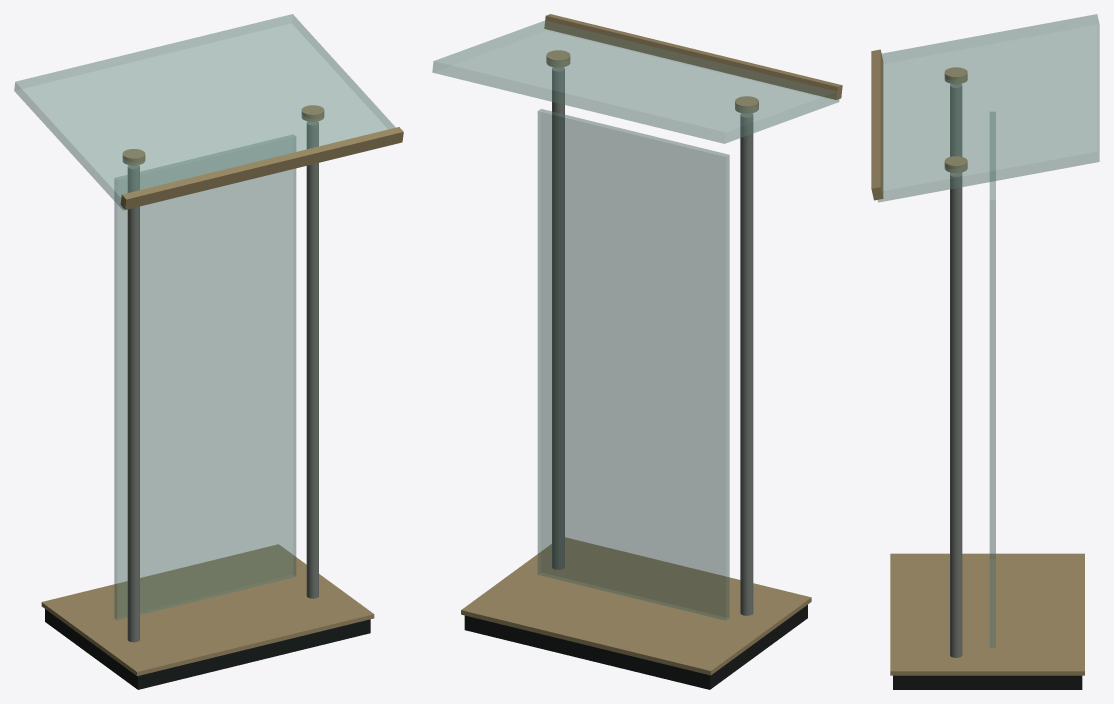
File: lectern-v1.glb
3 renders of one model, left to right at view 1: azimuth 30°, elevation 25°; view 2: azimuth 150°, elevation 25°; view 3: azimuth 270°, elevation 25°, orthographic. The views are drawn at different scales.
Visible parts, largest first — view 1: Smoked glass lectern front, Angled lectern reading surface, Lectern base trim, Lectern brushed metal support (×2), Reading surface lower lip, Lectern weighted base; view 2: Smoked glass lectern front, Lectern base trim, Angled lectern reading surface, Lectern brushed metal support (×2), Lectern weighted base, Reading surface lower lip; view 3: Angled lectern reading surface, Lectern base trim, Lectern brushed metal support (×2), Smoked glass lectern front, Lectern weighted base, Reading surface lower lip, Lectern glass mounting cap.
Boxes of the visible parts, x1=… form: Smoked glass lectern front: x1=114, y1=135, x2=296, y2=620; Angled lectern reading surface: x1=14, y1=14, x2=395, y2=210; Lectern base trim: x1=41, y1=544, x2=374, y2=676; Lectern brushed metal support (×2): x1=127, y1=121, x2=318, y2=642; Reading surface lower lip: x1=120, y1=127, x2=403, y2=209; Lectern weighted base: x1=45, y1=609, x2=370, y2=689; Smoked glass lectern front: x1=537, y1=109, x2=729, y2=620; Lectern base trim: x1=461, y1=537, x2=811, y2=675; Angled lectern reading surface: x1=432, y1=20, x2=839, y2=143; Lectern brushed metal support (×2): x1=552, y1=67, x2=753, y2=615; Lectern weighted base: x1=464, y1=605, x2=807, y2=689; Reading surface lower lip: x1=544, y1=14, x2=842, y2=99; Angled lectern reading surface: x1=877, y1=14, x2=1099, y2=202; Lectern base trim: x1=890, y1=553, x2=1084, y2=675; Lectern brushed metal support (×2): x1=950, y1=84, x2=962, y2=657; Smoked glass lectern front: x1=989, y1=112, x2=995, y2=647; Lectern weighted base: x1=893, y1=675, x2=1082, y2=689; Reading surface lower lip: x1=871, y1=49, x2=883, y2=200; Lectern glass mounting cap: x1=944, y1=67, x2=967, y2=84.
Size of the model in its own units: 0.62 by 1.15 by 0.4342.
